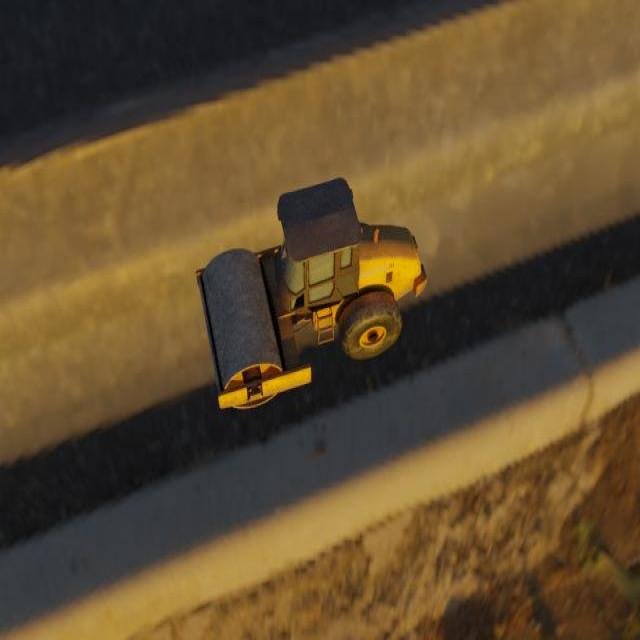Roller: (195, 176, 427, 408)
